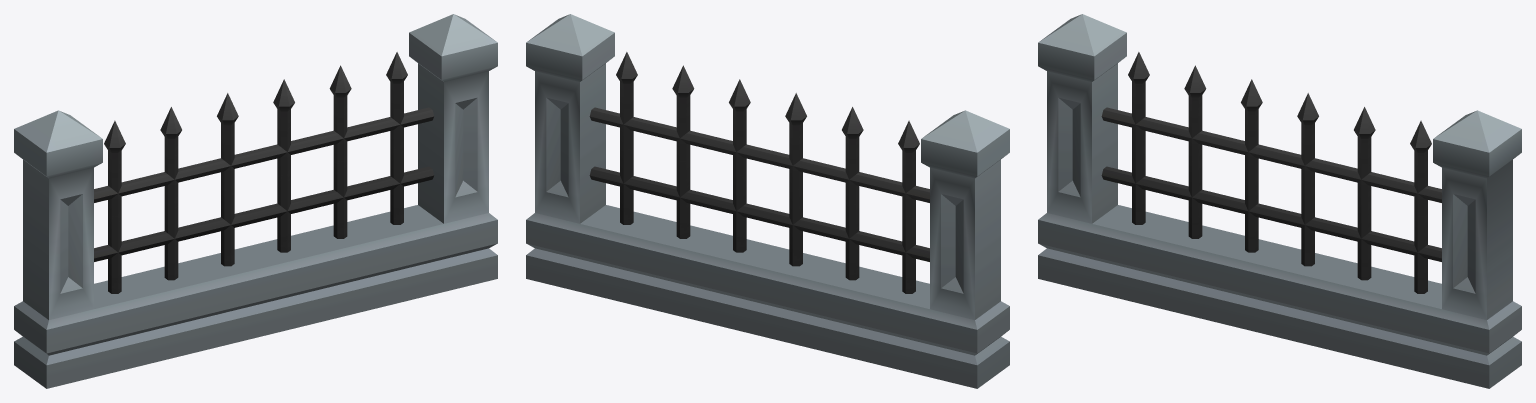
File: fence.glb
The picture shows the model from 3 angles, left to right: view 1: azimuth 30°, elevation 25°; view 2: azimuth 150°, elevation 25°; view 3: azimuth 330°, elevation 25°; orthographic projection.
Visible parts, largest first — view 1: fence; view 2: fence; view 3: fence.
Boxes of the visible parts, left/top/right/bottom form: fence: left=14, top=14, right=497, bottom=388; fence: left=526, top=14, right=1009, bottom=388; fence: left=1038, top=14, right=1521, bottom=388.
Bounding box in the file's own units: 4 × 2.2 × 0.5.
Materials: 1 (1 with a texture image).
